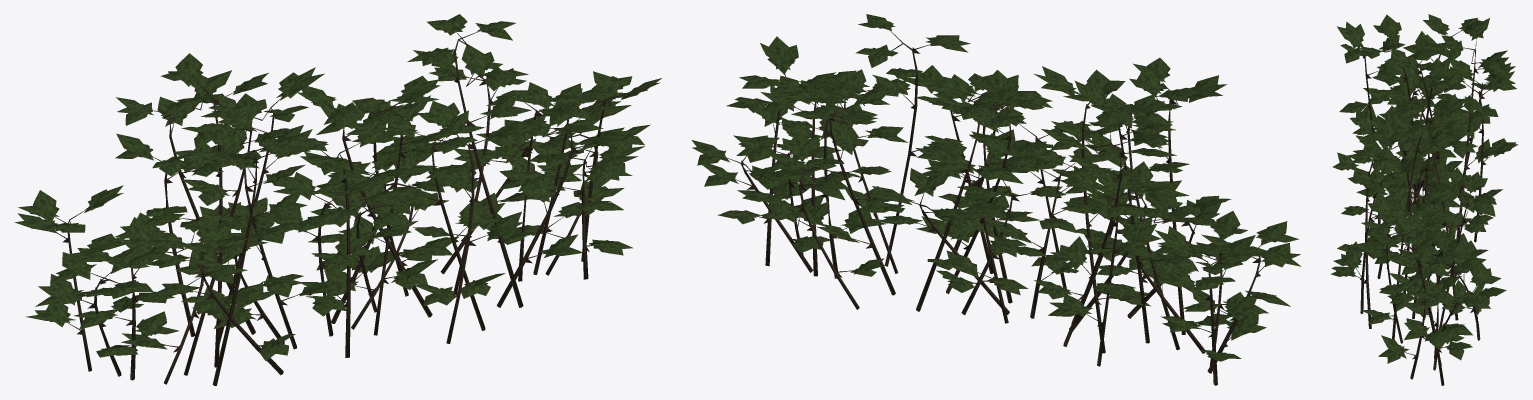
Rendered from bramble-hedge3m.glb.
3 views of the same model, side by side, from view 1: azimuth 30°, elevation 25°; view 2: azimuth 150°, elevation 25°; view 3: azimuth 270°, elevation 25° (orthographic). The views are drawn at different scales.
Parts seen in each view (by area): view 1: bramble-hedge3m / leaf, bramble-hedge3m / bark; view 2: bramble-hedge3m / leaf, bramble-hedge3m / bark; view 3: bramble-hedge3m / leaf, bramble-hedge3m / bark.
Part boxes in pixels (left/top/right/bottom): bramble-hedge3m / leaf: left=14, top=14, right=661, bottom=360; bramble-hedge3m / bark: left=54, top=31, right=624, bottom=385; bramble-hedge3m / leaf: left=691, top=14, right=1300, bottom=361; bramble-hedge3m / bark: left=727, top=30, right=1267, bottom=385; bramble-hedge3m / leaf: left=1330, top=14, right=1518, bottom=363; bramble-hedge3m / bark: left=1355, top=30, right=1491, bottom=385.
Bounding box in the file's own units: 3 × 1.3 × 1.
Materials: 2 (2 with a texture image).
